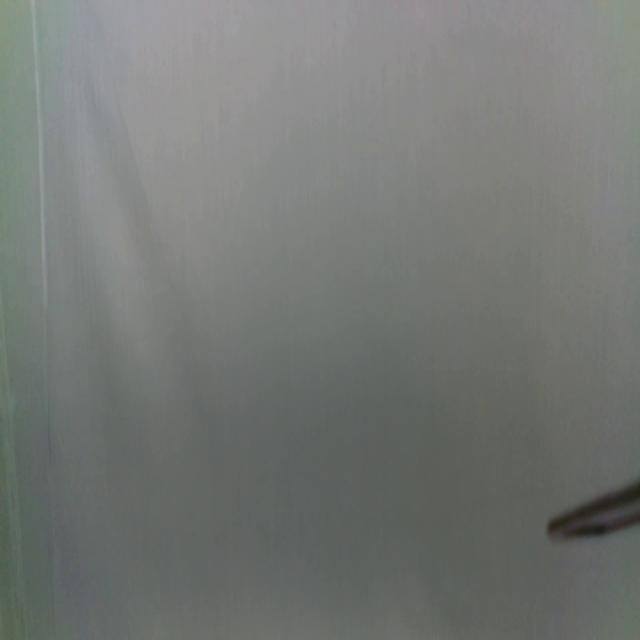crease: (32, 0, 57, 640), (0, 297, 26, 640)
